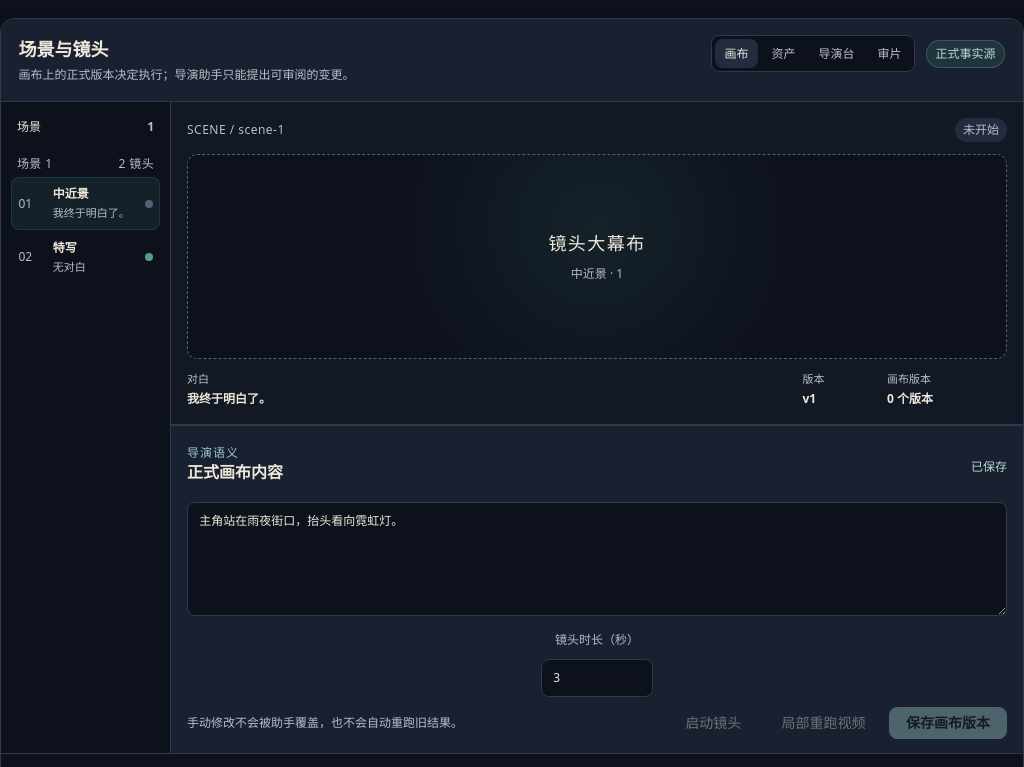
Scenario: ProfessionalWorkbench › keeps canvas edits explicit and assistant suggestions opt-in
This screenshot has width=1024, height=767.
Expected: the text "正式事实源" is shown, [926,40,1005,68]
Replace the text in the text box named "镜头导演语义" with "用户手动改写的正式镜头语义" at (597, 559), box [187,502,1007,616]
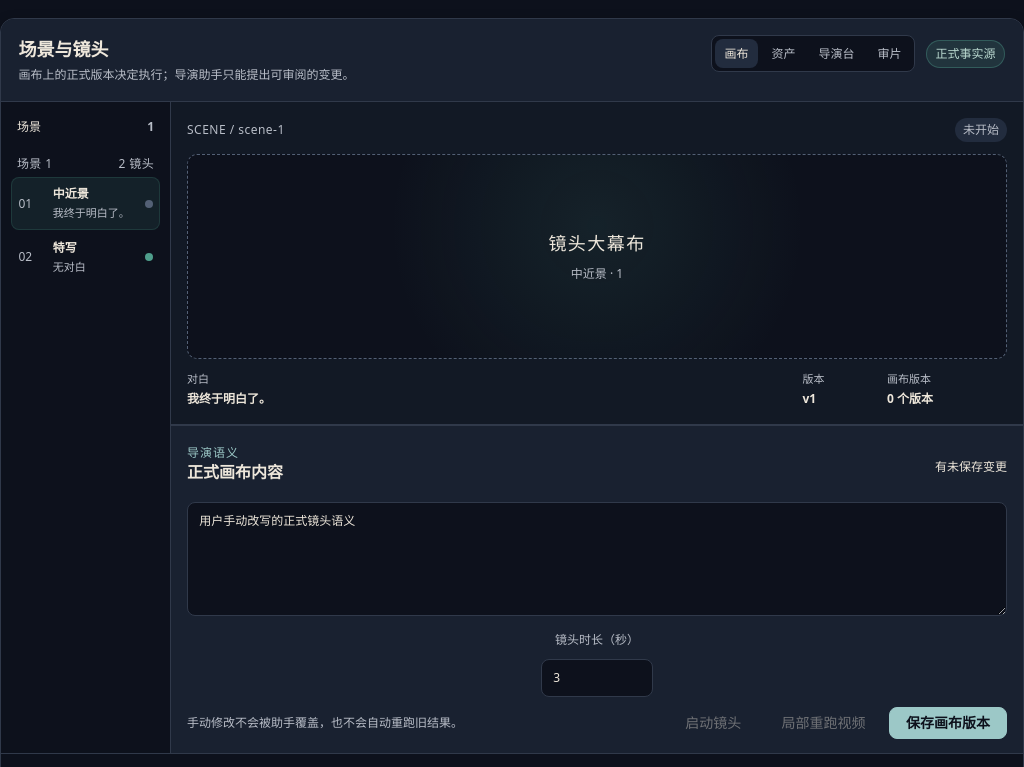
Result: the text "有未保存变更" is shown at [935,458,1007,476]
Click the button "保存画布版本".
click(948, 723)  # box [889,707,1007,739]
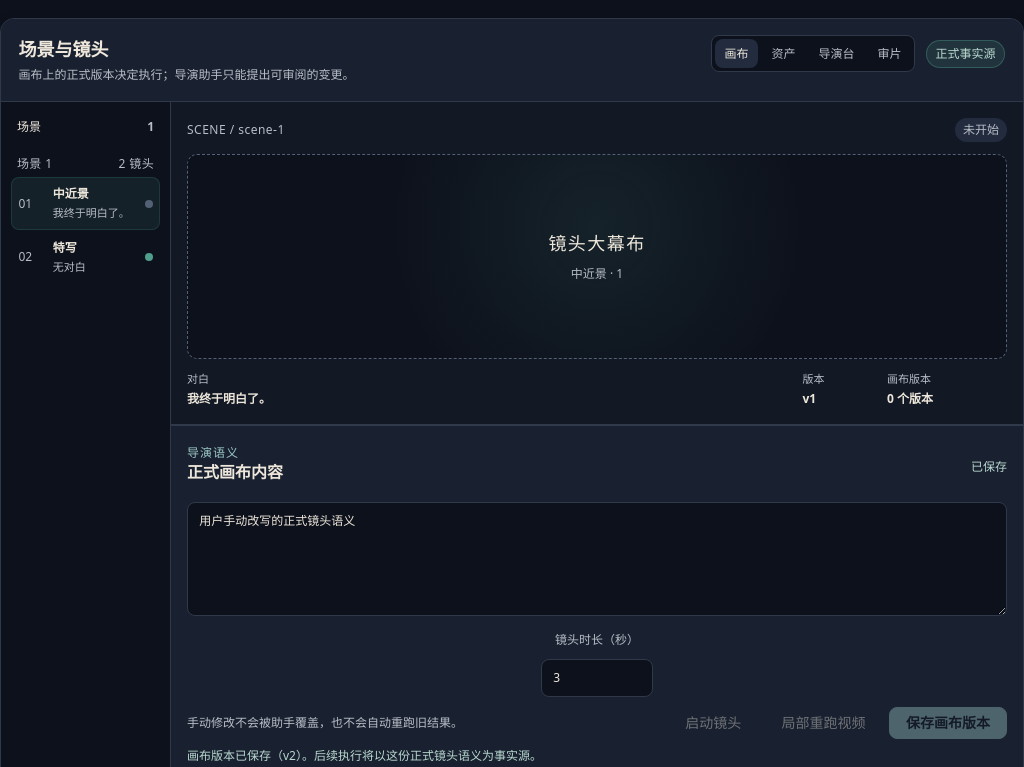
Result: the text "画布版本已保存（v2）。后续执行将以这份正式镜头语义为事实源。" is shown at [187,747,542,764]
